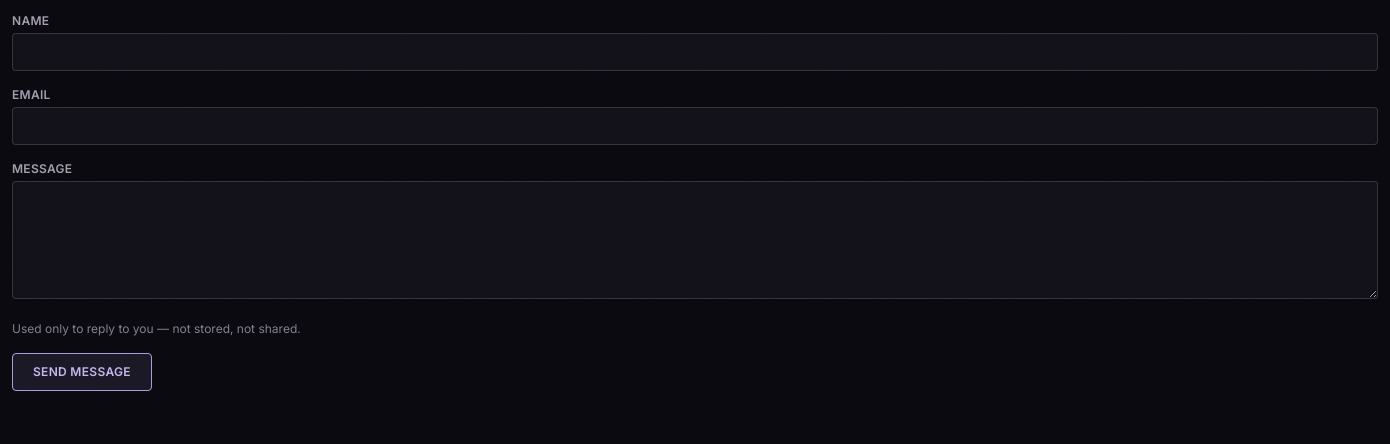
ContactForm › falls back to a generic message on a network-level failure
Type "Ada" into the field labelled "Name". click: (695, 52)
box: x1=12 y1=33 x2=1378 y2=71
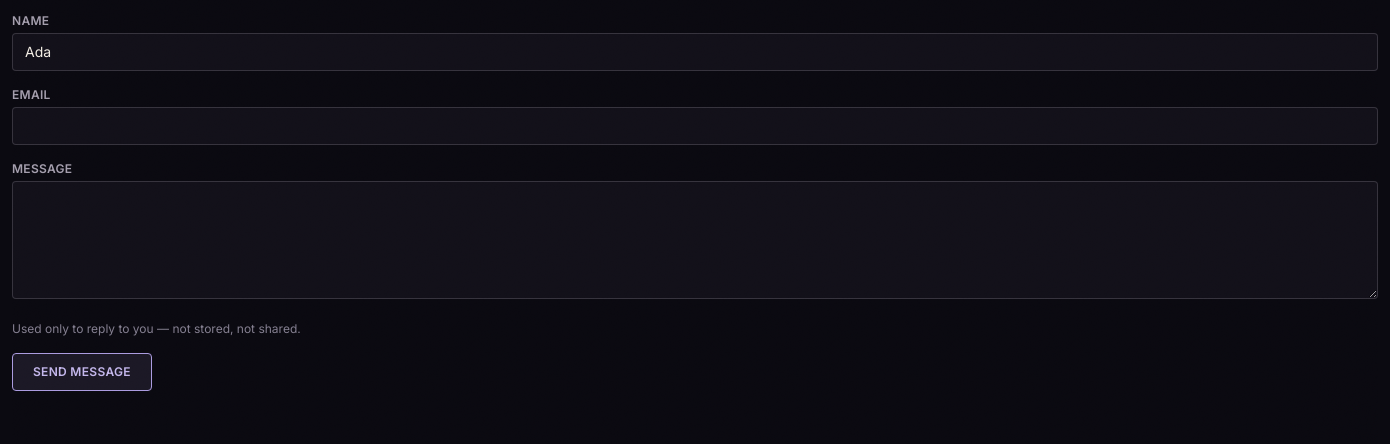
Type "ada@example.com" into the field labelled "Email". click: (695, 126)
box: x1=12 y1=107 x2=1378 y2=145
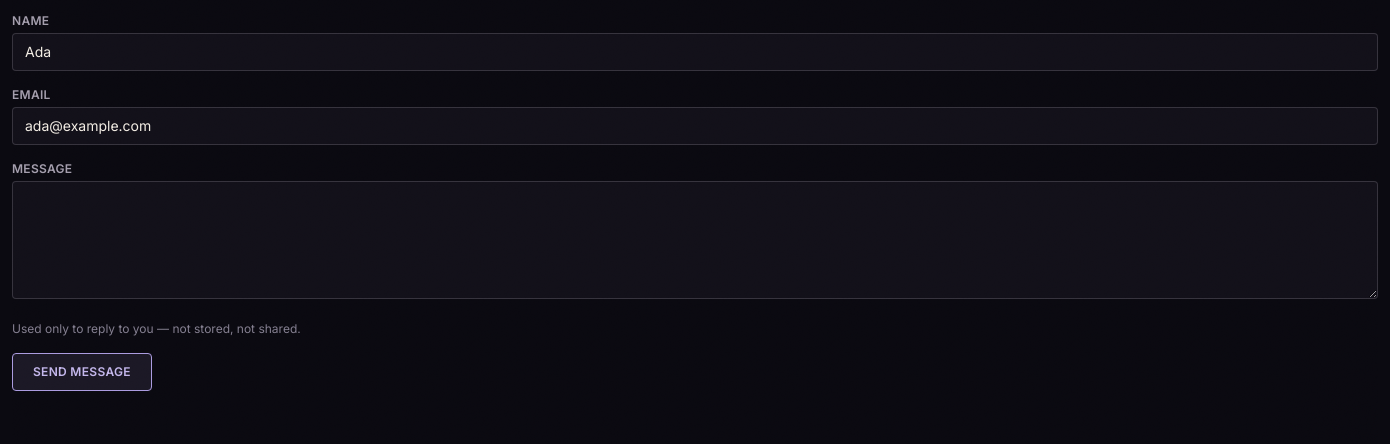
Type "Hello there" into the text box labelled "Message". click: (695, 240)
box: x1=12 y1=181 x2=1378 y2=299
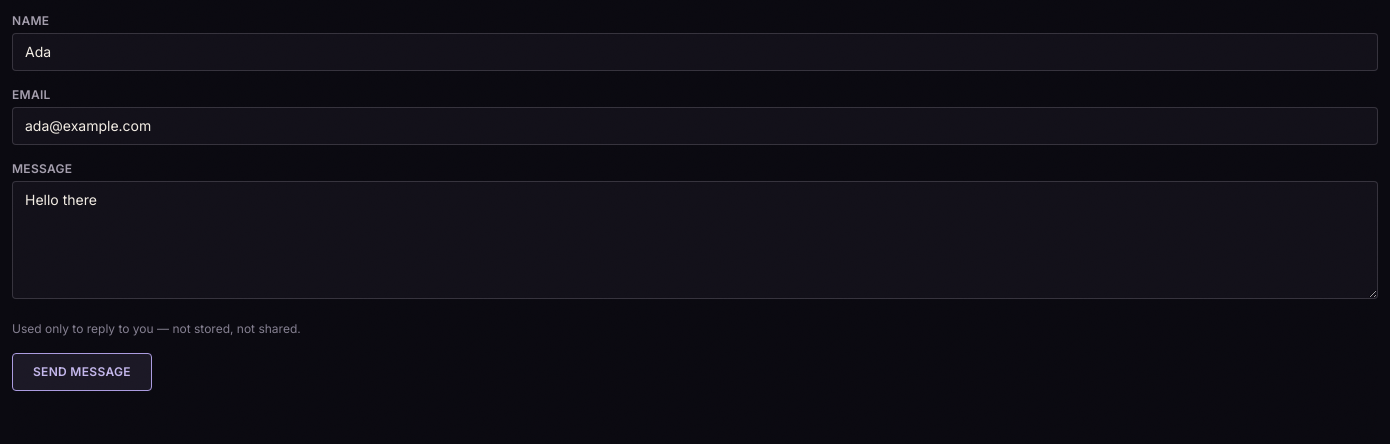
Click the button "Send message". click: (82, 372)
box: x1=12 y1=353 x2=152 y2=391
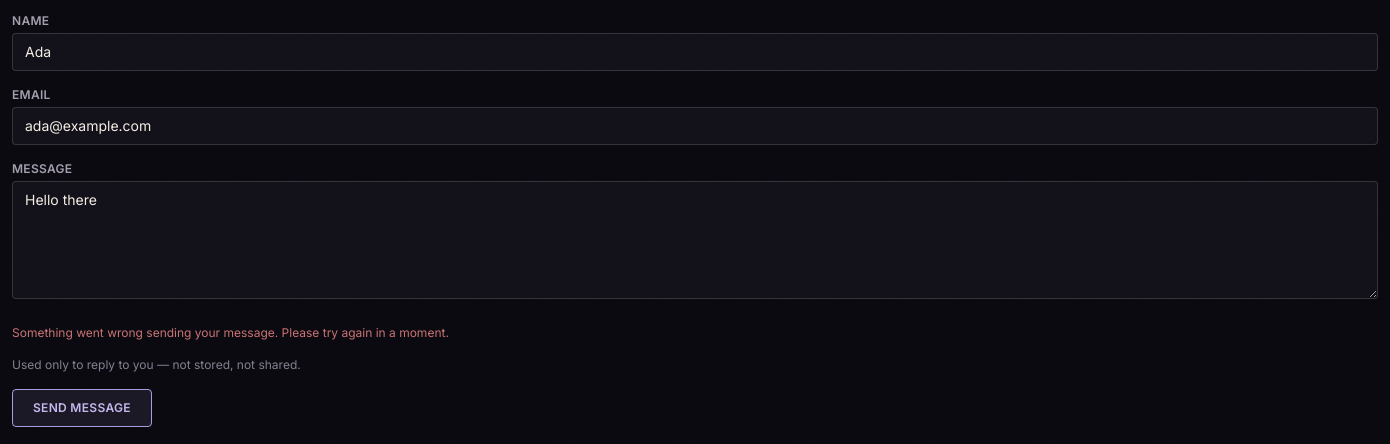
Expected: the message reads "Something went wrong sending your message. Please try again in a moment.", x1=12 y1=325 x2=449 y2=340
